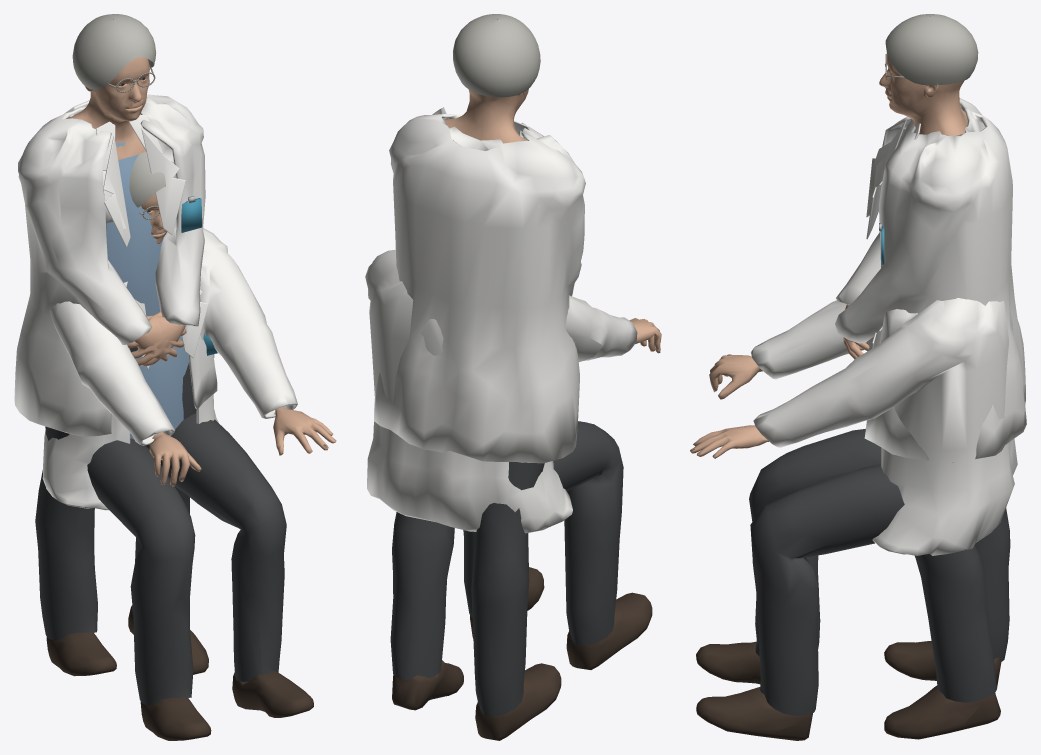
File: doctor-02-middle.glb
3 renders of one model, left to right at view 1: azimuth 30°, elevation 25°; view 2: azimuth 150°, elevation 25°; view 3: azimuth 270°, elevation 25°, orthographic. The views are drawn at different scales.
Visible parts, largest first — view 1: Doctor anatomy and wardrobe.003, Doctor anatomy and wardrobe.001; view 2: Doctor anatomy and wardrobe.001, Doctor anatomy and wardrobe.003; view 3: Doctor anatomy and wardrobe.003, Doctor anatomy and wardrobe.001.
Part boxes in pixels (x1=…): Doctor anatomy and wardrobe.003: x1=42, y1=151, x2=336, y2=740; Doctor anatomy and wardrobe.001: x1=14, y1=14, x2=217, y2=676; Doctor anatomy and wardrobe.001: x1=374, y1=14, x2=585, y2=740; Doctor anatomy and wardrobe.003: x1=365, y1=249, x2=661, y2=669; Doctor anatomy and wardrobe.003: x1=690, y1=234, x2=1017, y2=740; Doctor anatomy and wardrobe.001: x1=835, y1=14, x2=1026, y2=739.
Size of the model in its own units: 0.5928 by 1.81 by 0.8099.
